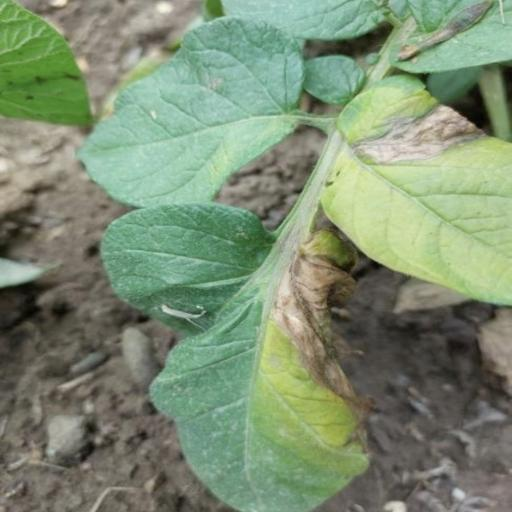Early Blight: (100, 202, 372, 512), (324, 76, 512, 309)
